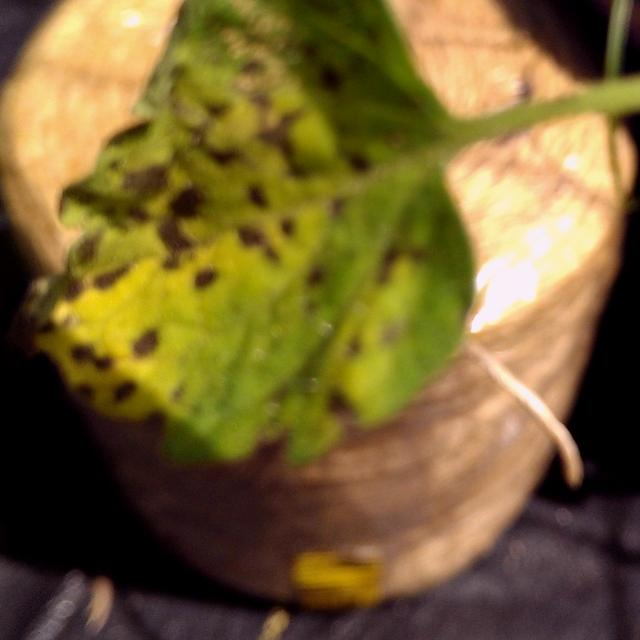Tomato Septoria leaf spot: (5, 0, 513, 527)
